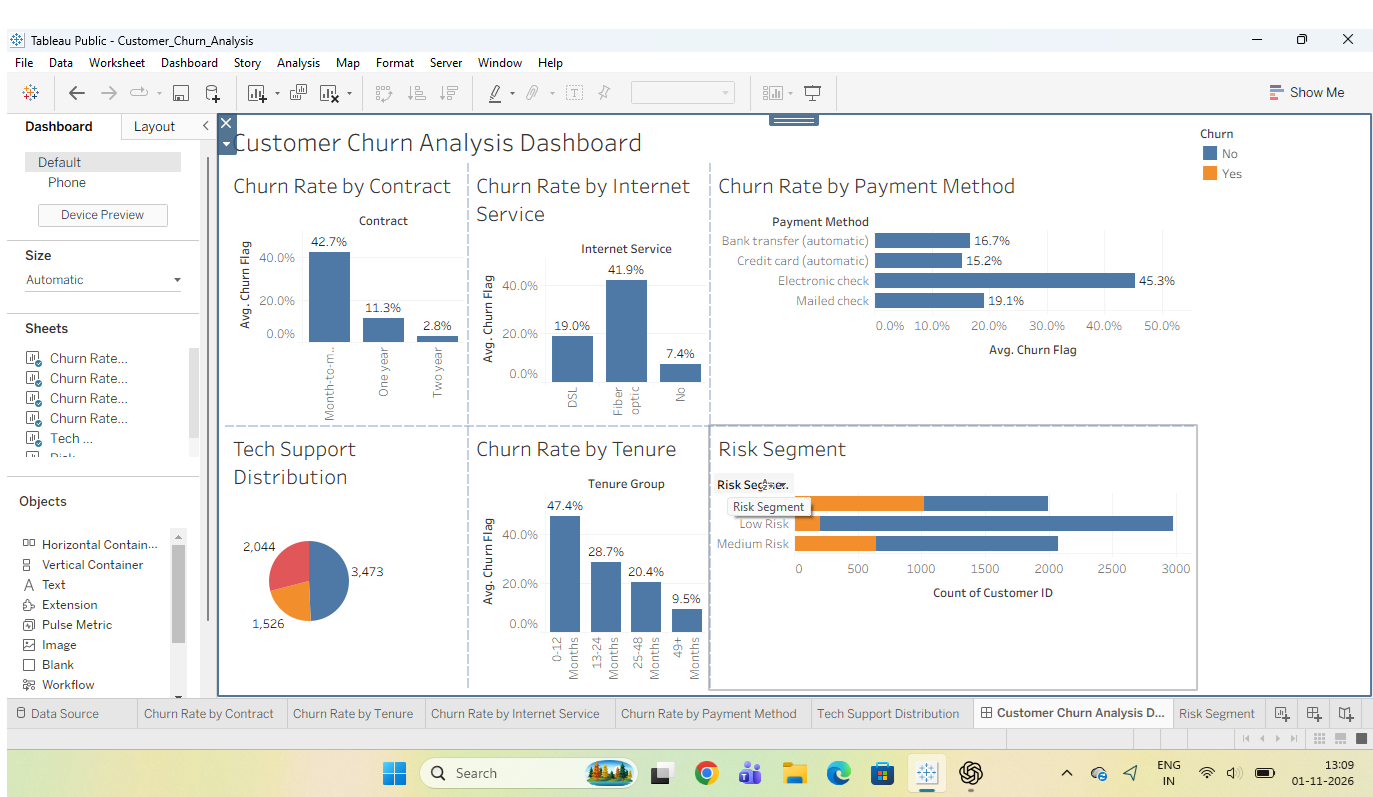

This screenshot's page, from the dashboard's own definition file:
{"tool":"tableau","page":{"name":"Customer Churn Analysis Dashboard","canvas":[1000,1000],"units":"permille","ordinal":0},"visuals":[{"type":"title","box":[6.9,13.7,840.7,71.9]},{"type":"legend","title":"Risk Segment","param":"[federated.0nlm0qw1w7vc841f73rue00ebcgs].[none:Churn:nk]","box":[847.6,13.7,145.5,972.6]},{"type":"worksheet","title":"Churn Rate by Contract","mark":"Automatic","rows":["ChurnFlag"],"cols":["Contract"],"box":[6.9,85.6,210.2,450.3]},{"type":"worksheet","title":"Churn Rate by Internet Service","mark":"Automatic","rows":["ChurnFlag"],"cols":["InternetService"],"box":[217.1,85.6,210.2,450.3]},{"type":"worksheet","title":"Churn Rate by Payment Method","mark":"Automatic","rows":["PaymentMethod"],"cols":["ChurnFlag"],"box":[427.2,85.6,420.4,450.3]},{"type":"worksheet","title":"Tech Support Distribution","mark":"Pie","box":[6.9,536,210.2,450.3]},{"type":"worksheet","title":"Churn Rate by Tenure","mark":"Automatic","rows":["ChurnFlag"],"cols":["TenureGroup"],"box":[217.1,536,210.2,450.3]},{"type":"worksheet","title":"Risk Segment","mark":"Automatic","rows":["RiskSegment"],"cols":["customerID"],"box":[427.2,536,420.4,450.3]}]}

Visuals, with their boxes on the dashboard's canvas, which has no fixed pixel size, in thousandths of its width and height (x1, y1, x2, y2). These are canvas units, not pixel positions in the 1373x797 screenshot, which may show the page scaled, cropped or inside an application window:
title: box(7, 14, 848, 86)
"Risk Segment" legend: box(848, 14, 993, 986)
"Churn Rate by Contract" worksheet: box(7, 86, 217, 536)
"Churn Rate by Internet Service" worksheet: box(217, 86, 427, 536)
"Churn Rate by Payment Method" worksheet: box(427, 86, 848, 536)
"Tech Support Distribution" worksheet (Pie marks): box(7, 536, 217, 986)
"Churn Rate by Tenure" worksheet: box(217, 536, 427, 986)
"Risk Segment" worksheet: box(427, 536, 848, 986)
